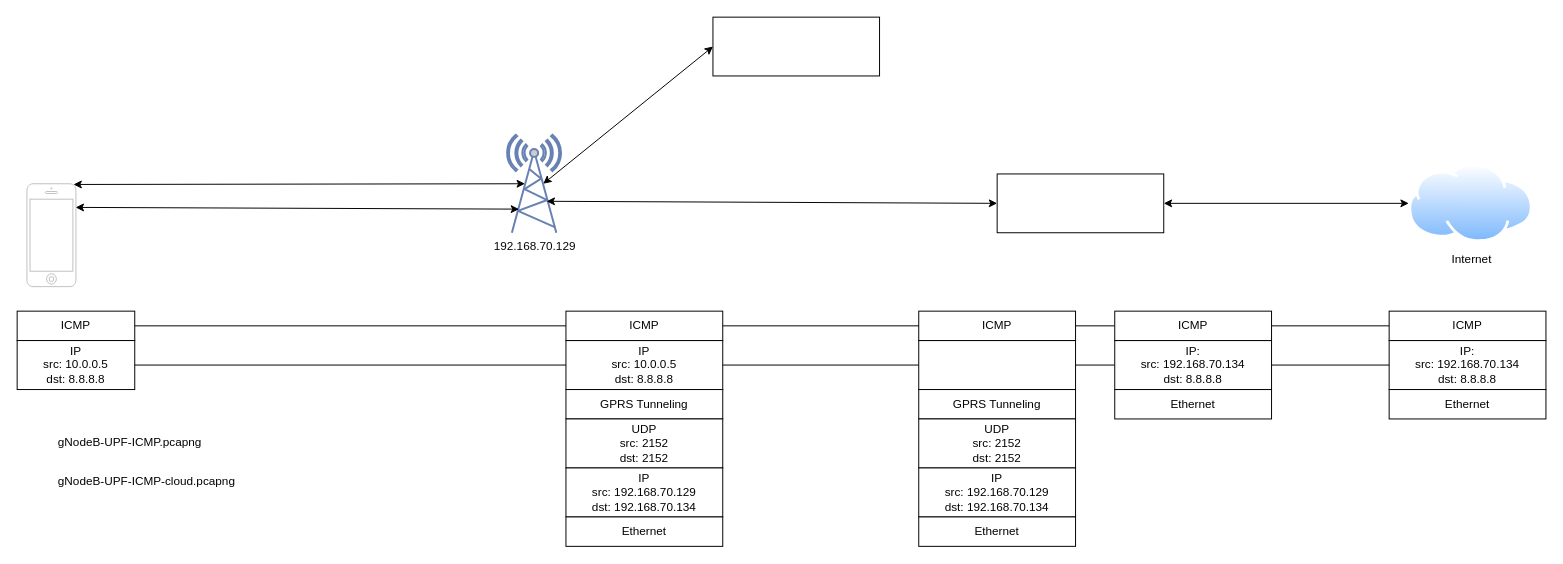
The diagram is 1563 pixels wide and 564 high, and some of its shapes have lost their labels. The shapes that lost their labels are listed below. From the top down, each one's centre as x and y in pixels, then its label:
At [796,46]: "AMF 192.168.70.132".
At [1080,203]: "UPF 192.168.70.134".
At [997,365]: "IP: src: 10.0.0.5 dst: 8.8.8.8".
